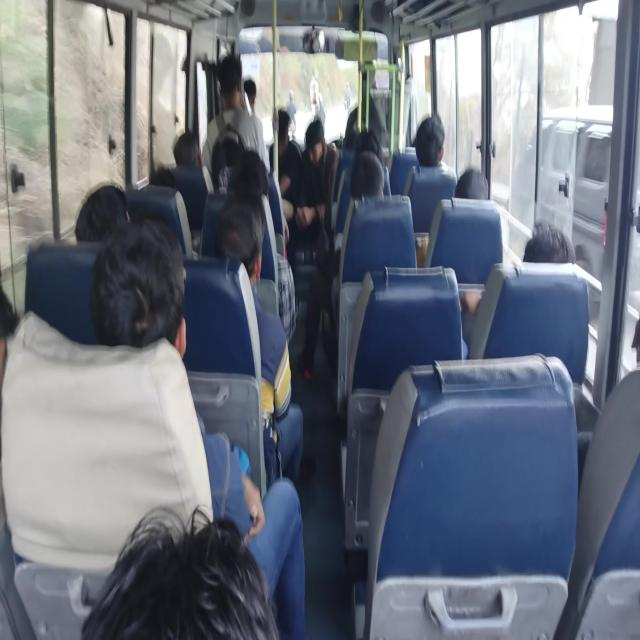person: (90, 217, 306, 637), (80, 504, 280, 639), (214, 191, 304, 484), (461, 218, 576, 358), (294, 117, 340, 380), (201, 55, 270, 188), (404, 112, 457, 265), (295, 117, 338, 245), (269, 107, 301, 219), (74, 181, 130, 242), (413, 113, 457, 185), (522, 219, 576, 263), (350, 150, 384, 202), (454, 167, 489, 200)
